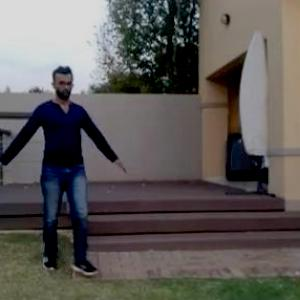land: (0, 67, 120, 279)
